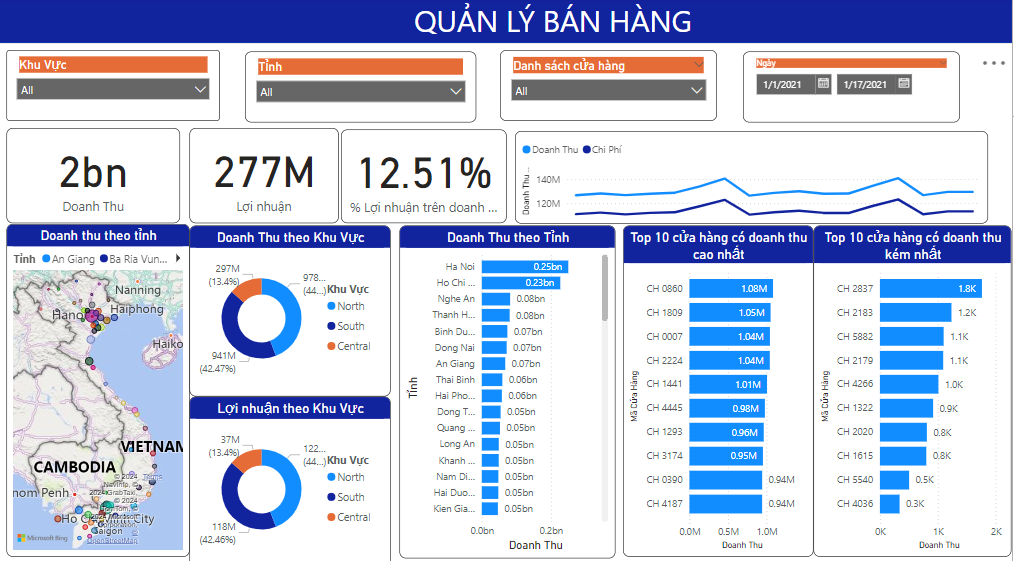

The dashboard page shown, as its layout file describes it:
{"tool":"powerbi","page":{"name":"Page 1","canvas":[1280,720],"ordinal":0},"visuals":[{"type":"shape","box":[0,0,1280.8,59.9],"z":0},{"type":"textbox","box":[966.7,212.1,85.8,14.6],"z":1000},{"type":"slicer","fields":{"Values":["DS Tinh.Khu Vực"]},"box":[13,68,268.8,89.1],"z":2000},{"type":"slicer","fields":{"Values":["DS Tinh.Tỉnh"]},"box":[313.1,69.6,291.5,89.1],"z":3000},{"type":"slicer","fields":{"Values":["DS Cua Hang.Column1"]},"box":[635.8,68,273.6,89.1],"z":4000},{"type":"slicer","fields":{"Values":["Ket Qua KD.Ngày"]},"box":[940.8,69.6,273.6,89.1],"z":5000},{"type":"card","fields":{"Values":["Sum(Ket Qua KD.Doanh Thu)"]},"box":[13,166.8,218.6,119.8],"z":6000},{"type":"card","fields":{"Values":["Ket Qua KD.Lợi nhuận"]},"box":[242.9,166.8,187.8,119.8],"z":7000},{"type":"card","fields":{"Values":["Ket Qua KD.% Lợi nhuận trên doanh thu"]},"box":[434,168.4,208.9,118.2],"z":8000},{"type":"lineChart","fields":{"Category":["Ket Qua KD.Ngày.Variation.Date Hierarchy.Year","Ket Qua KD.Ngày.Variation.Date Hierarchy.Quarter","Ket Qua KD.Ngày.Variation.Date Hierarchy.Month","Ket Qua KD.Ngày.Variation.Date Hierarchy.Day"],"Y":["Sum(Ket Qua KD.Doanh Thu)","Sum(Ket Qua KD.Chi Phí)"]},"box":[654.2,170,595.9,116.6],"z":9000},{"type":"map","title":"Doanh thu theo tỉnh","fields":{"Series":["DS Tinh.Tỉnh"],"Y":["DS Tinh.latitude"],"X":["DS Tinh.longitude"],"Size":["Sum(Ket Qua KD.Doanh Thu)"]},"box":[13.2,287.2,230.6,419.5],"z":10000},{"type":"donutChart","title":"Doanh Thu theo Khu Vực","fields":{"Y":["Sum(Ket Qua KD.Doanh Thu)"],"Category":["DS Tinh.Khu Vực"]},"box":[243.8,289.1,253.2,215.4],"z":11000},{"type":"textbox","box":[521.4,0,667.1,68],"z":12000},{"type":"donutChart","title":"Lợi nhuận theo Khu Vực","fields":{"Category":["DS Tinh.Khu Vực"],"Y":["Ket Qua KD.Lợi nhuận"]},"box":[243.8,491.3,253.2,215.4],"z":13000},{"type":"barChart","title":"Doanh Thu theo Tỉnh","fields":{"Category":["DS Tinh.Tỉnh"],"Y":["Sum(Ket Qua KD.Doanh Thu)"]},"box":[508.4,289.1,272.1,419.5],"z":14000},{"type":"barChart","title":"Top 10 cửa hàng có doanh thu cao nhất","fields":{"Category":["Ket Qua KD.Mã Cửa Hàng"],"Y":["Sum(Ket Qua KD.Doanh Thu)"]},"box":[789.9,289.1,240,417.6],"z":15000},{"type":"barChart","title":"Top 10 cửa hàng có doanh thu kém nhất","fields":{"Category":["Ket Qua KD.Mã Cửa Hàng"],"Y":["Sum(Ket Qua KD.Doanh Thu)"]},"box":[1029.9,289.1,249.5,417.6],"z":16000}]}

Visuals, with their boxes in screenshot pixels (x1, y1, x2, y2), scaled from the page's 1280x720 canvas onto the 1014x561 screenshot:
shape: crop(0, 0, 1013, 47)
textbox: crop(766, 165, 834, 177)
slicer - DS Tinh.Khu Vực: crop(10, 53, 223, 122)
slicer - DS Tinh.Tỉnh: crop(248, 54, 479, 124)
slicer - DS Cua Hang.Column1: crop(504, 53, 720, 122)
slicer - Ket Qua KD.Ngày: crop(745, 54, 962, 124)
card - Sum(Ket Qua KD.Doanh Thu): crop(10, 130, 183, 223)
card - Ket Qua KD.Lợi nhuận: crop(192, 130, 341, 223)
card - Ket Qua KD.% Lợi nhuận trên doanh thu: crop(344, 131, 509, 223)
lineChart - Ket Qua KD.Ngày.Variation.Date Hierarchy.Year x Ket Qua KD.Ngày.Variation.Date Hierarchy.Quarter: crop(518, 132, 990, 223)
"Doanh thu theo tỉnh" map: crop(10, 224, 193, 551)
"Doanh Thu theo Khu Vực" donutChart: crop(193, 225, 394, 393)
textbox: crop(413, 0, 942, 53)
"Lợi nhuận theo Khu Vực" donutChart: crop(193, 383, 394, 551)
"Doanh Thu theo Tỉnh" barChart: crop(403, 225, 618, 552)
"Top 10 cửa hàng có doanh thu cao nhất" barChart: crop(626, 225, 816, 551)
"Top 10 cửa hàng có doanh thu kém nhất" barChart: crop(816, 225, 1013, 551)
